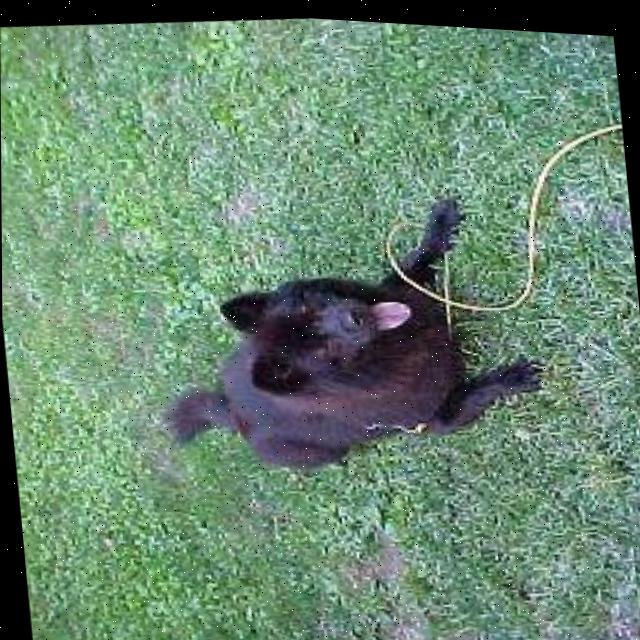dogs: (122, 176, 592, 508)
